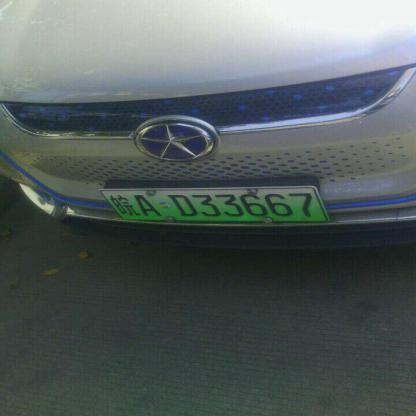lp: (98, 186, 329, 221)
